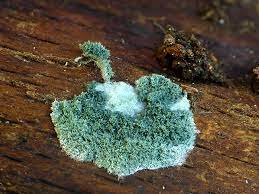Trichoderma: (55, 84, 195, 169), (82, 38, 117, 82)
